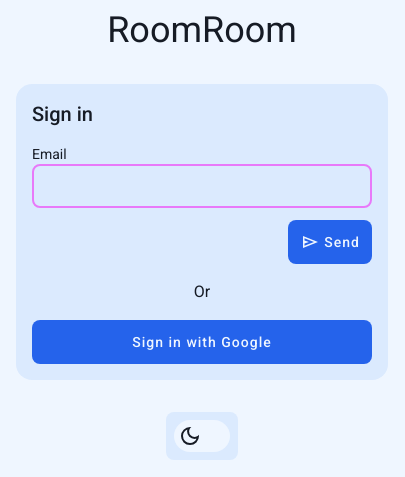
<SignInPage /> › renders a message indicating that an email has been sent
Expected: the text "we have sent you" is not shown
Type "a@a.a" into the field at (202, 186), box [32,164,372,208]
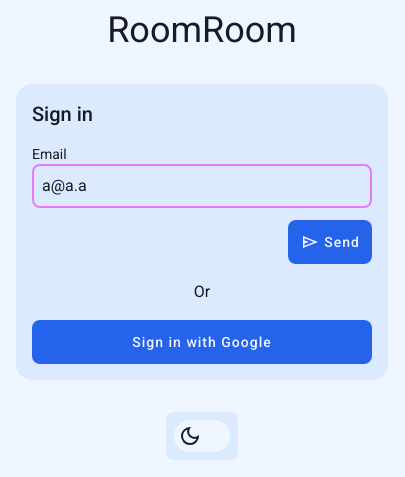
Click the button "Send" at (330, 242), box [288,220,372,264]
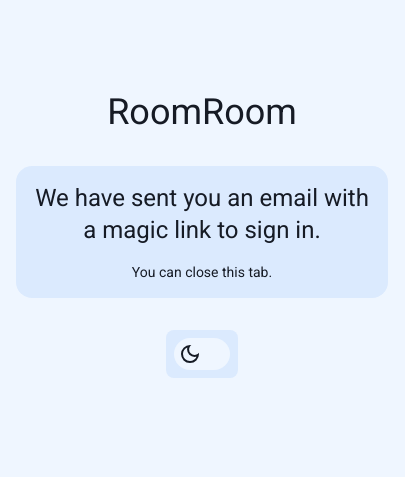
Expected: the text "We have sent you an email with a magic link to sign in." is shown, [32,182,372,246]
Expected: the field is gone
